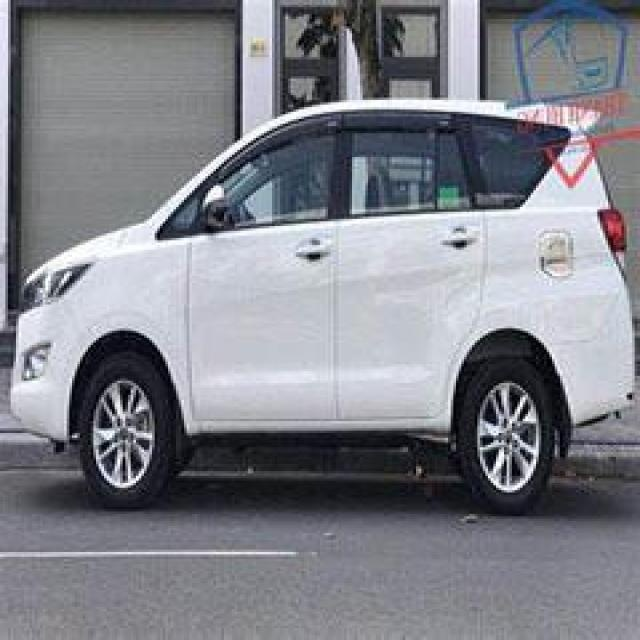car: (0, 54, 640, 546)
